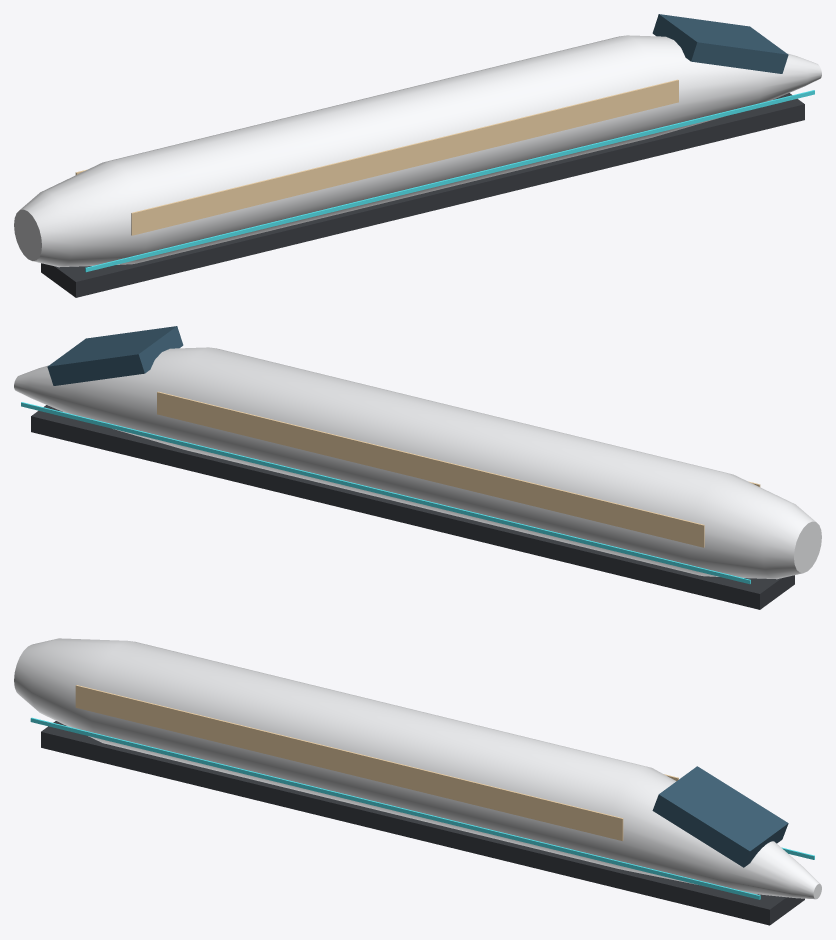
Rendered from SM_MaglevCar.fbx.
3 renders of one model, top to bottom at view 1: azimuth 30°, elevation 25°; view 2: azimuth 150°, elevation 25°; view 3: azimuth 330°, elevation 25°, orthographic.
Parts seen in each view (by area): view 1: SM_MaglevCar; view 2: SM_MaglevCar; view 3: SM_MaglevCar.
Part boxes in pixels (<box>): SM_MaglevCar: <box>14,14,821,297</box>; SM_MaglevCar: <box>14,326,821,609</box>; SM_MaglevCar: <box>14,638,821,925</box>.
Bounding box in the file's own units: 2600 × 333 × 321.
